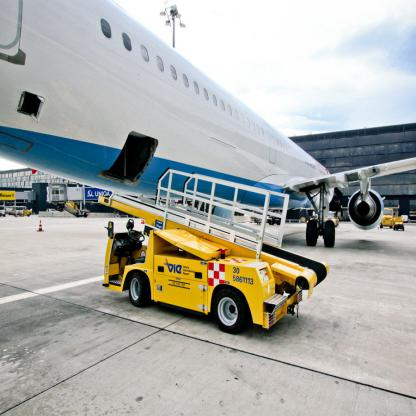baggagetruck: (93, 158, 328, 334)
